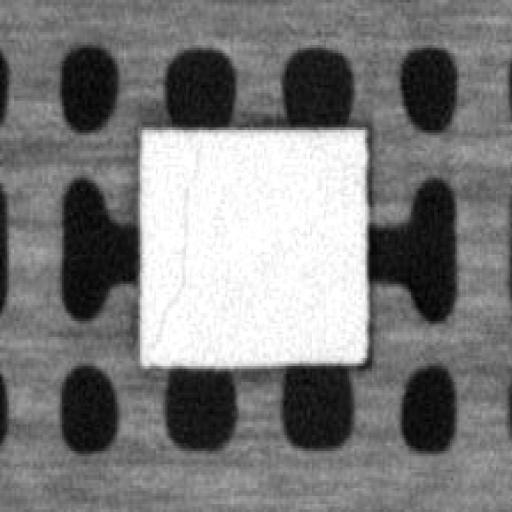DIE_CRACK: (152, 149, 198, 334)
